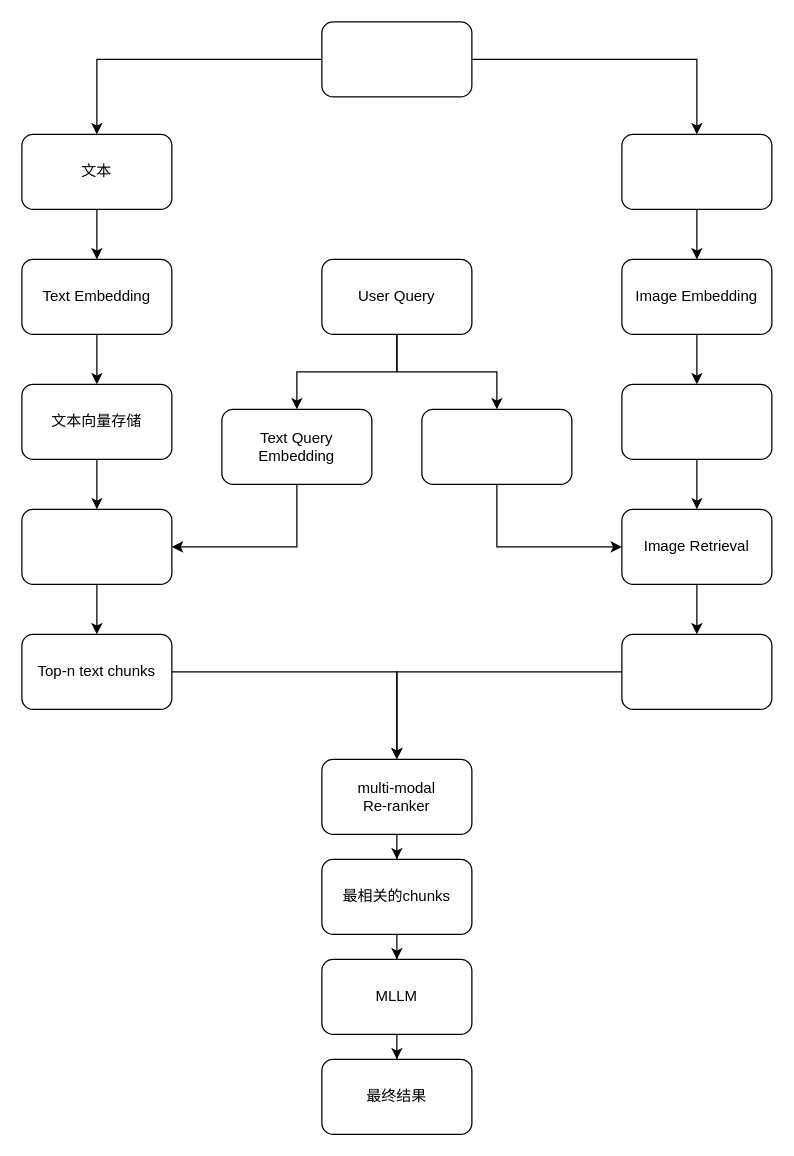
This 794x1156 diagram has some shape labels left out. The shapes that lost their labels are listed below. From the top down, each one's centre as x and y in pixels, then its label:
At point (396, 59): "输入数据".
At point (696, 171): "图片".
At point (696, 421): "图片向量存储".
At point (496, 446): "Image Query Embedding".
At point (96, 546): "Text Retrieval".
At point (696, 671): "Top-n Image chunks".
